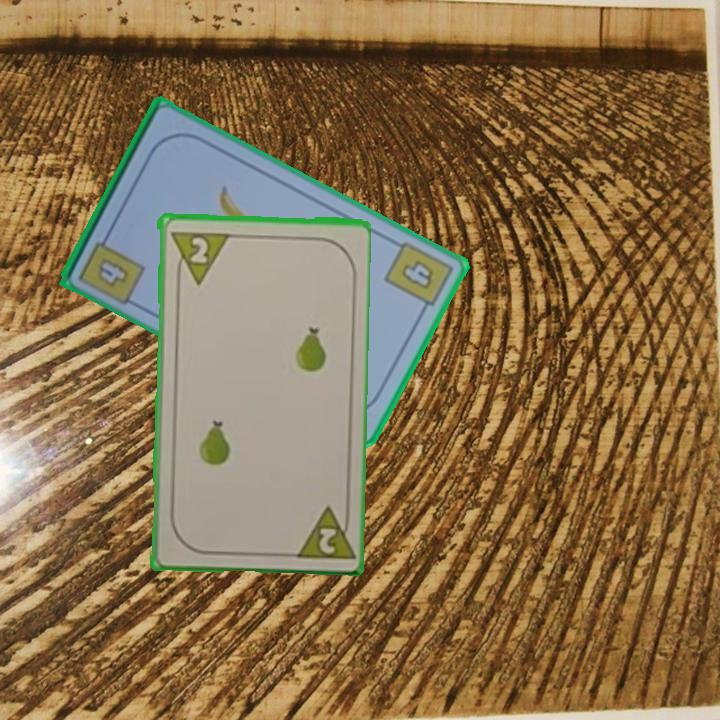2p: (290, 501, 355, 562), (166, 226, 230, 287)
4b: (380, 237, 457, 318), (94, 253, 132, 290)
